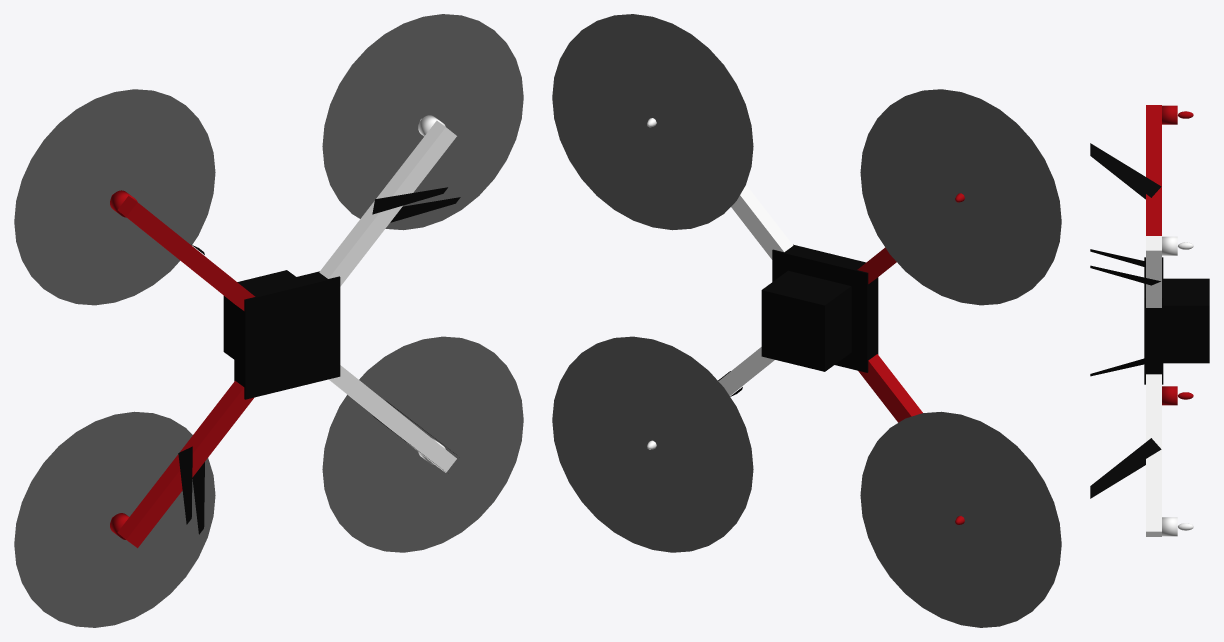
Rendered from 3dr_arducopter_quad_x_2.obj.
3 views of the same model, side by side, from view 1: azimuth 30°, elevation 25°; view 2: azimuth 150°, elevation 25°; view 3: azimuth 270°, elevation 25° (orthographic). The views are drawn at different scales.
Parts seen in each view (by area): view 1: Prop.003_Circle.000_Gray_Plastic, Prop.001_Circle.002_Gray_Plastic, Prop.004_Circle.000_Gray_Plastic, Prop.002_Circle.002_Gray_Plastic, Base_Cube_Textolite, Arm.003_Cube.002_Black_Metal, Arm_Cube.004_White_Metal, Arm.002_Cube.002_Black_Metal, Arm.001_Cube.004_White_Metal, Leg.004_Plane.000_Textolite, Leg_Plane.001_Textolite, Body_Cube.001_Textolite; view 2: Prop.002_Circle.002_Gray_Plastic, Prop.004_Circle.000_Gray_Plastic, Prop.003_Circle.000_Gray_Plastic, Prop.001_Circle.002_Gray_Plastic, Body_Cube.001_Textolite, Base_Cube_Textolite, Arm_Cube.004_White_Metal, Arm.003_Cube.002_Black_Metal, Arm.001_Cube.004_White_Metal; view 3: Body_Cube.001_Textolite, Arm.001_Cube.004_White_Metal, Arm.002_Cube.002_Black_Metal, Base_Cube_Textolite, Leg.001_Plane.001_Textolite, Leg.003_Plane.000_Textolite, Arm_Cube.004_White_Metal, Leg_Plane.001_Textolite, Motor.001_Cylinder_White_Metal, Motor.003_Cylinder.001_White_Metal, Motor_Cylinder_White_Metal, Motor.004_Cylinder.001_White_Metal (+1 smaller).
Part boxes in pixels (box(x1,y1,x2,y2)): Prop.003_Circle.000_Gray_Plastic: box(14, 89, 215, 305); Prop.001_Circle.002_Gray_Plastic: box(322, 336, 523, 552); Prop.004_Circle.000_Gray_Plastic: box(14, 411, 215, 627); Prop.002_Circle.002_Gray_Plastic: box(322, 14, 523, 230); Base_Cube_Textolite: box(234, 271, 340, 399); Arm.003_Cube.002_Black_Metal: box(117, 381, 253, 548); Arm_Cube.004_White_Metal: box(319, 120, 456, 286); Arm.002_Cube.002_Black_Metal: box(117, 195, 255, 310); Arm.001_Cube.004_White_Metal: box(328, 365, 456, 472); Leg.004_Plane.000_Textolite: box(178, 446, 204, 534); Leg_Plane.001_Textolite: box(372, 187, 460, 222); Body_Cube.001_Textolite: box(223, 270, 295, 359); Prop.002_Circle.002_Gray_Plastic: box(552, 14, 753, 230); Prop.004_Circle.000_Gray_Plastic: box(860, 411, 1061, 627); Prop.003_Circle.000_Gray_Plastic: box(860, 89, 1061, 305); Prop.001_Circle.002_Gray_Plastic: box(552, 336, 753, 552); Body_Cube.001_Textolite: box(761, 270, 851, 371); Base_Cube_Textolite: box(772, 244, 878, 372); Arm_Cube.004_White_Metal: box(731, 184, 793, 259); Arm.003_Cube.002_Black_Metal: box(858, 354, 922, 422); Arm.001_Cube.004_White_Metal: box(718, 347, 774, 395); Body_Cube.001_Textolite: box(1163, 278, 1209, 363); Arm.001_Cube.004_White_Metal: box(1146, 374, 1161, 536); Arm.002_Cube.002_Black_Metal: box(1146, 105, 1161, 235); Base_Cube_Textolite: box(1144, 257, 1163, 384); Leg.001_Plane.001_Textolite: box(1090, 438, 1161, 498); Leg.003_Plane.000_Textolite: box(1090, 143, 1161, 199); Arm_Cube.004_White_Metal: box(1146, 236, 1161, 307); Leg_Plane.001_Textolite: box(1090, 249, 1160, 285); Motor.001_Cylinder_White_Metal: box(1162, 517, 1177, 536); Motor.003_Cylinder.001_White_Metal: box(1162, 105, 1177, 124); Motor_Cylinder_White_Metal: box(1162, 236, 1177, 255); Motor.004_Cylinder.001_White_Metal: box(1162, 386, 1177, 405).
Size of the model in its own units: 0.6429 by 0.6429 by 0.1497.
